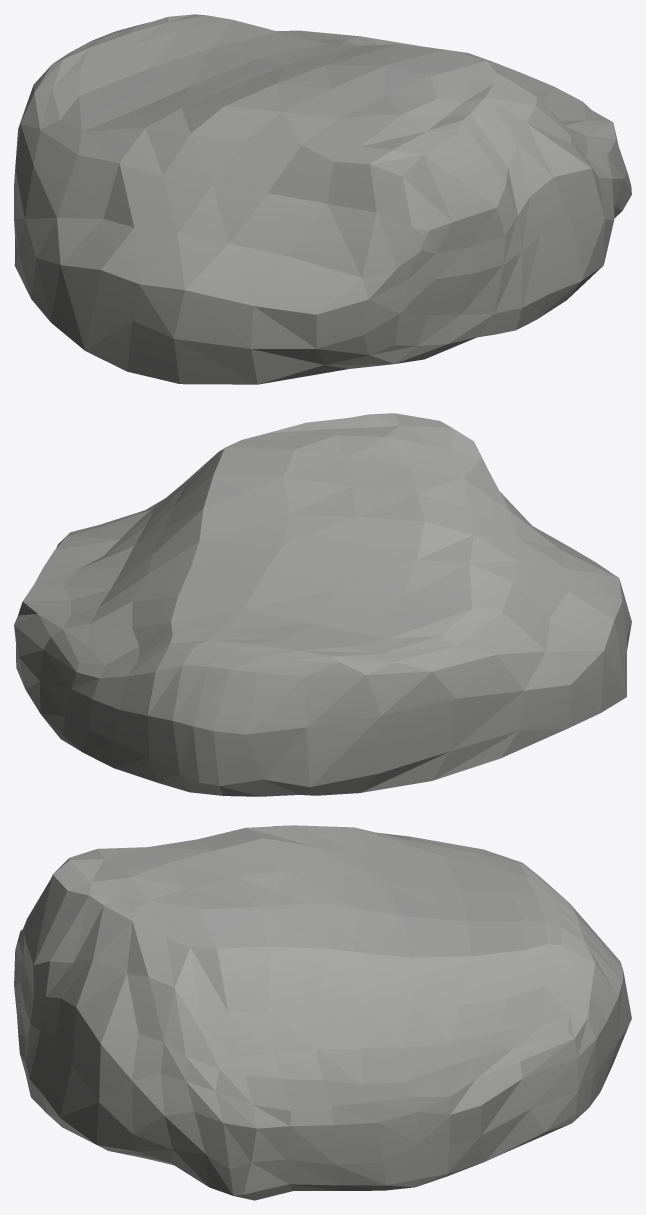
The model's file is Cavern_Step_Lrg-03.fbx.
3 renders of one model, top to bottom at view 1: azimuth 30°, elevation 25°; view 2: azimuth 150°, elevation 25°; view 3: azimuth 270°, elevation 25°, orthographic. The views are drawn at different scales.
Visible parts, largest first — view 1: Cavern_Step_Lrg-03; view 2: Cavern_Step_Lrg-03; view 3: Cavern_Step_Lrg-03.
Boxes of the visible parts, <box> form: Cavern_Step_Lrg-03: <box>14,14,631,384</box>; Cavern_Step_Lrg-03: <box>14,413,631,796</box>; Cavern_Step_Lrg-03: <box>14,825,631,1200</box>.
Bounding box in the file's own units: 807 × 286 × 761.
Materials: 1 (1 with a texture image).
